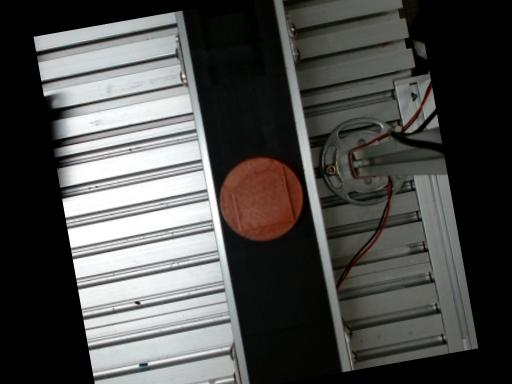Brown_Waper: (220, 156, 303, 239)
Not_Square: (230, 163, 295, 231)
